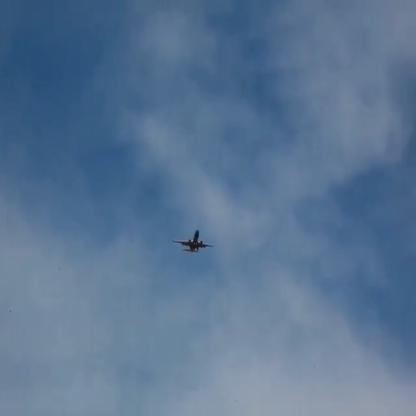CIV_Plane: (171, 230, 213, 252)
